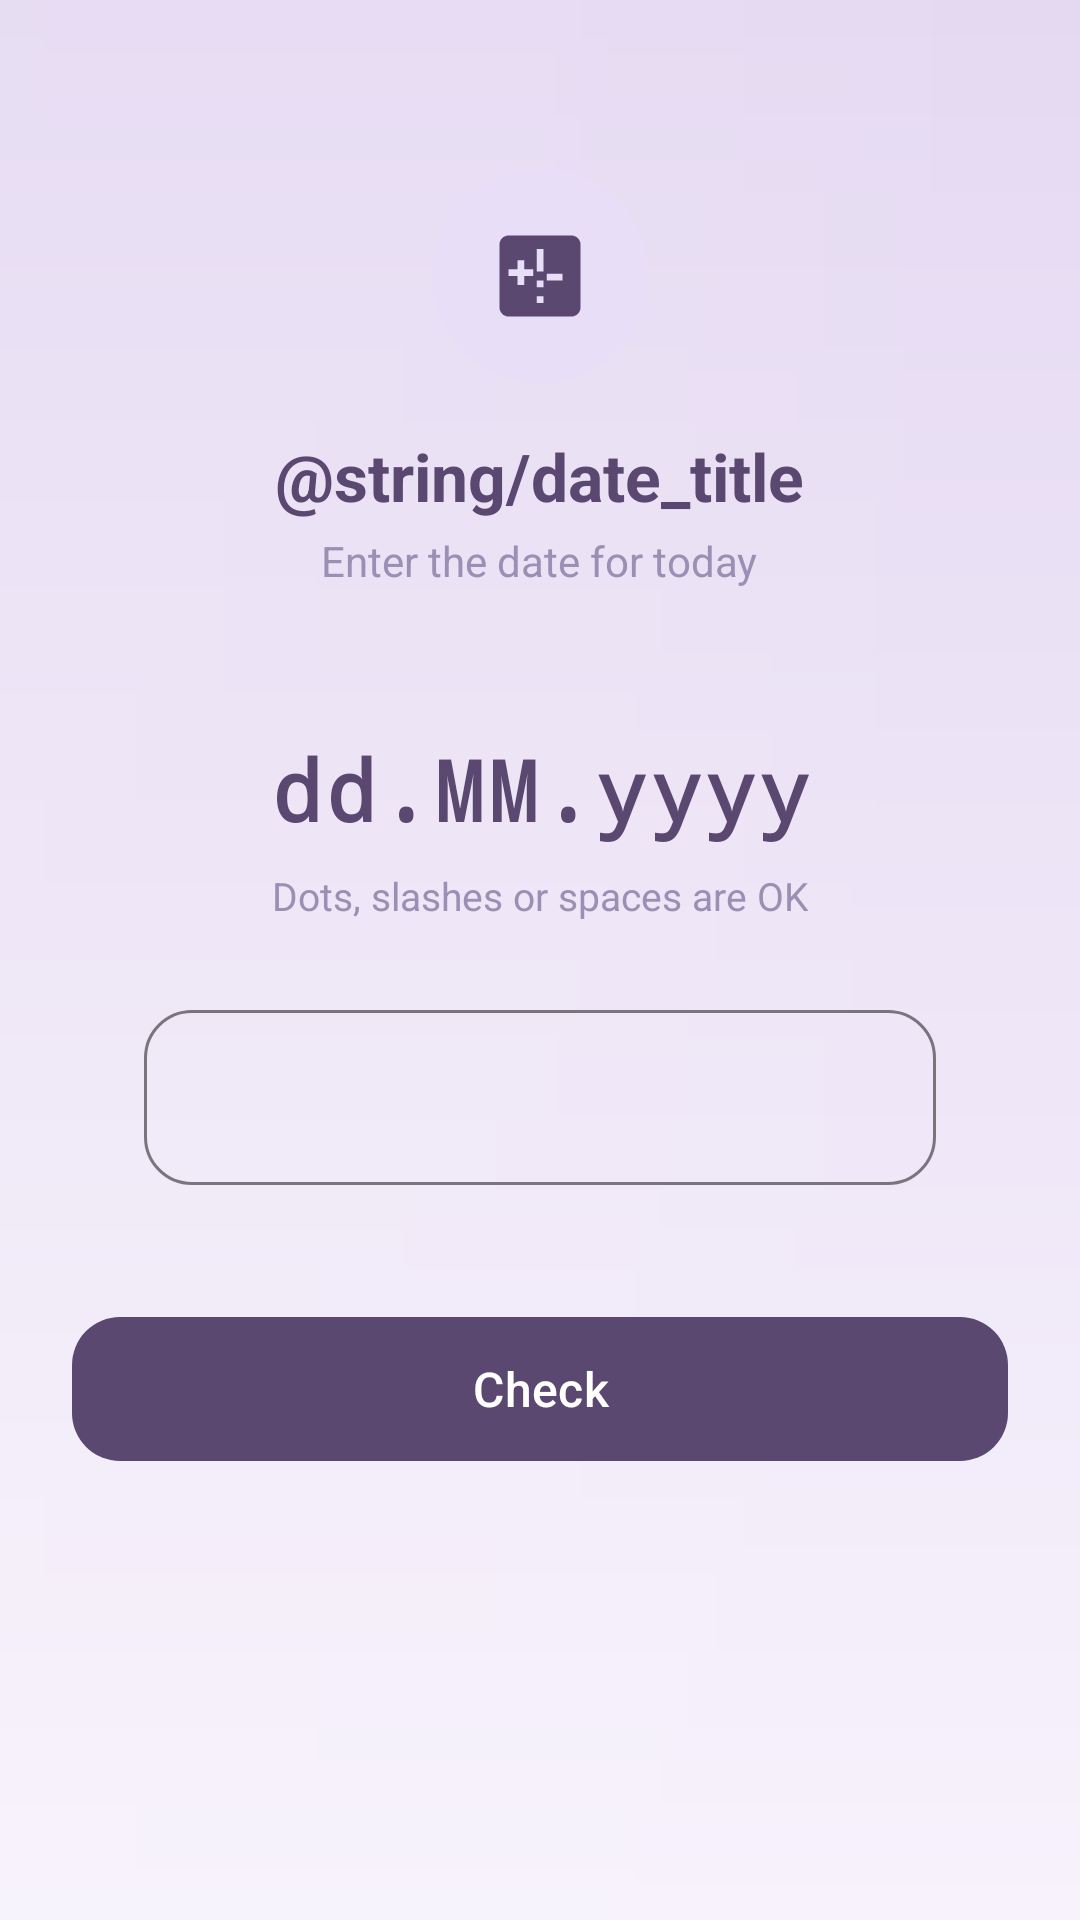

Point at icon controls on the screen. Image size 1080×1920, points as point (x, y).
challenge math: point (540, 276)
